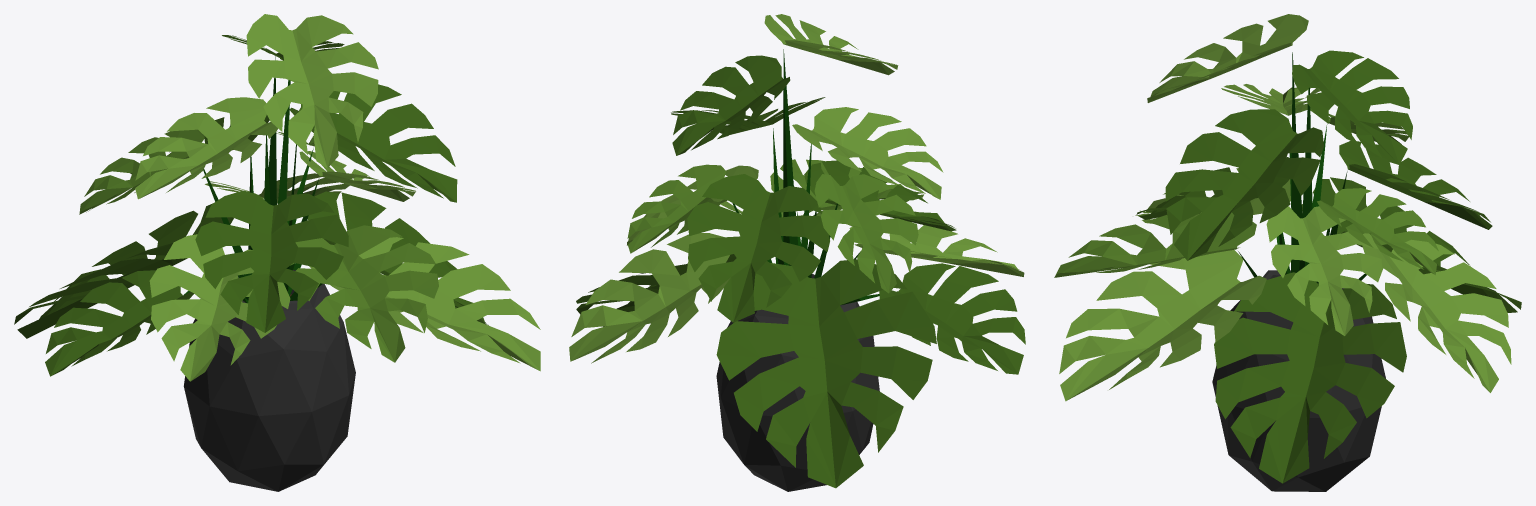
The model's file is d-moebel-komp-3.glb.
The picture shows the model from 3 angles, left to right: view 1: azimuth 30°, elevation 25°; view 2: azimuth 150°, elevation 25°; view 3: azimuth 270°, elevation 25°; orthographic projection. The views are drawn at different scales.
Visible parts, largest first — view 1: Icosphere; view 2: Icosphere; view 3: Icosphere.
Boxes of the visible parts, x1,y1,x2,y2 form: Icosphere: (14,14,540,491); Icosphere: (569,14,1025,491); Icosphere: (1054,14,1521,491).
Bounding box in the file's own units: 1.56 × 1.55 × 1.45.
Materials: 1 (1 with a texture image).
